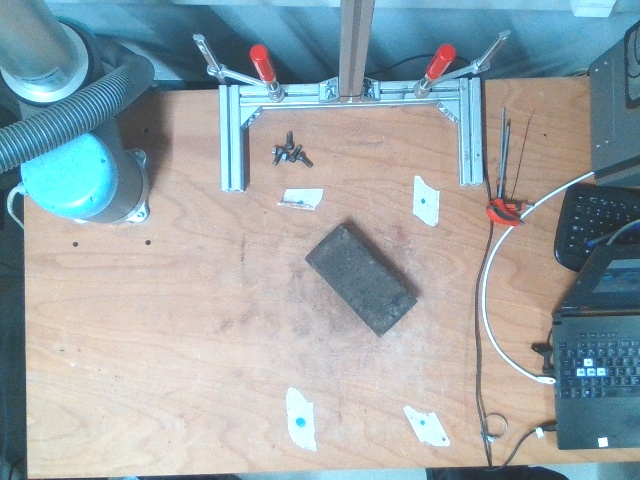brick: (303, 222, 415, 337)
